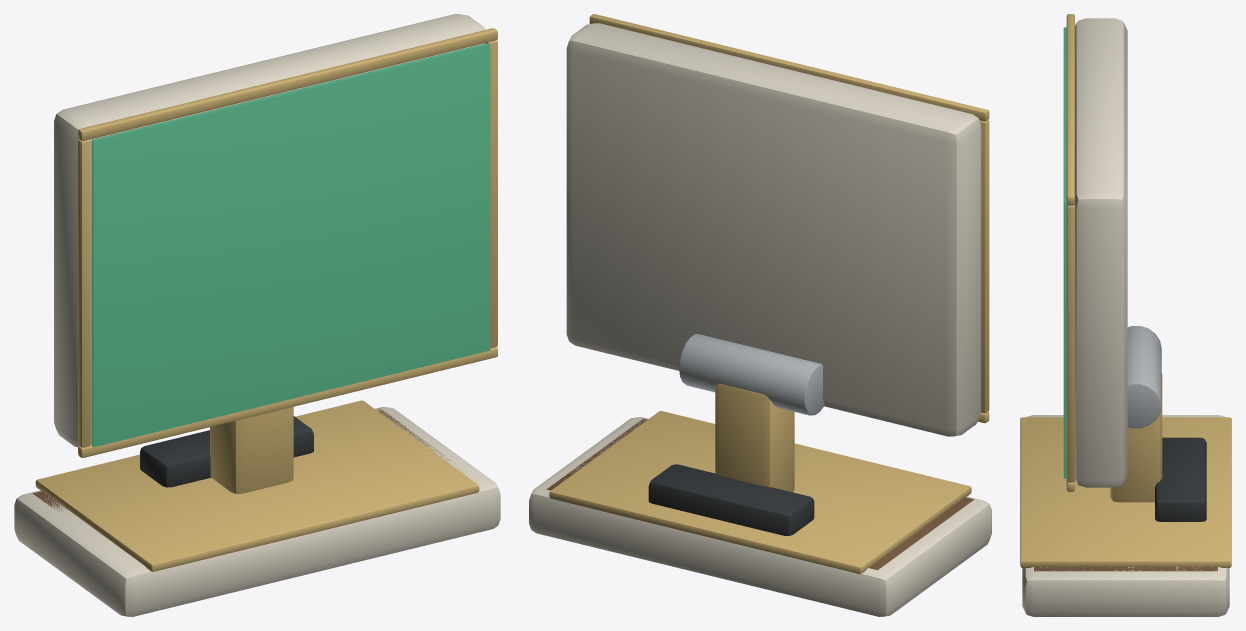
The model's file is pos_terminal_country_club.glb.
3 renders of one model, left to right at view 1: azimuth 30°, elevation 25°; view 2: azimuth 150°, elevation 25°; view 3: azimuth 270°, elevation 25°, orthographic. The views are drawn at different scales.
Visible parts, largest first — view 1: POS_Screen, POS_BaseTrim, POS_Base, POS_Back, POS_Stem, POS_TrimTop, POS_TrimSide_-1, POS_TrimBottom, POS_CableDock, POS_TrimSide_1; view 2: POS_Back, POS_BaseTrim, POS_Base, POS_Stem, POS_HingeKnuckle, POS_CableDock, POS_TrimTop, POS_TrimSide_-1, POS_WalnutPlinth; view 3: POS_Back, POS_BaseTrim, POS_Base, POS_CableDock, POS_HingeKnuckle, POS_Stem, POS_TrimSide_1, POS_Screen, POS_TrimTop, POS_WalnutPlinth.
Boxes of the visible parts, box(x1,y1,x2,y2) form: POS_Screen: box(91, 43, 490, 447); POS_BaseTrim: box(35, 400, 479, 571); POS_Base: box(14, 407, 500, 616); POS_Back: box(54, 14, 485, 447); POS_Stem: box(210, 407, 293, 493); POS_TrimTop: box(78, 28, 497, 140); POS_TrimSide_-1: box(78, 139, 90, 447); POS_TrimBottom: box(78, 347, 497, 457); POS_CableDock: box(140, 416, 313, 487); POS_TrimSide_1: box(485, 40, 497, 348); POS_Back: box(566, 23, 981, 436); POS_BaseTrim: box(549, 411, 971, 573); POS_Base: box(529, 417, 991, 616); POS_Stem: box(715, 383, 794, 492); POS_HingeKnuckle: box(679, 334, 824, 415); POS_CableDock: box(648, 464, 814, 535); POS_TrimTop: box(589, 14, 989, 121); POS_TrimSide_-1: box(980, 120, 989, 413); POS_WalnutPlinth: box(546, 418, 974, 570); POS_Back: box(1075, 18, 1127, 487); POS_BaseTrim: box(1020, 417, 1231, 567); POS_Base: box(1022, 415, 1229, 616); POS_CableDock: box(1155, 437, 1206, 521); POS_HingeKnuckle: box(1127, 326, 1161, 428); POS_Stem: box(1110, 374, 1162, 502); POS_TrimSide_1: box(1066, 204, 1074, 482); POS_Screen: box(1063, 27, 1066, 478); POS_TrimTop: box(1066, 14, 1074, 205); POS_WalnutPlinth: box(1034, 566, 1217, 571).
Size of what is drawn, in the model's own units: 0.423 by 0.4639 by 0.2056.
Materials: 6 (1 with a texture image).
